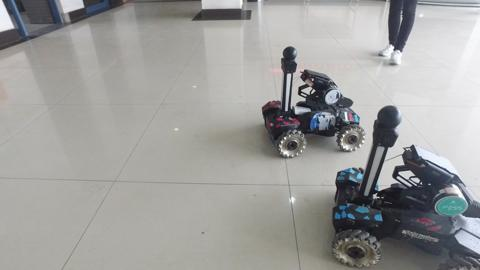chariot: (325, 100, 480, 267), (257, 43, 368, 158)
